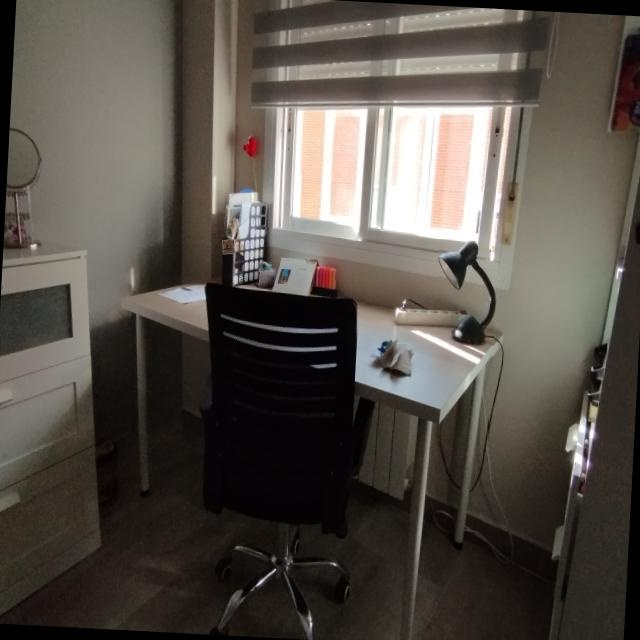bookshelf: (549, 141, 640, 640)
cabinet: (0, 246, 100, 607)
chair: (200, 284, 357, 639)
lamp: (439, 241, 496, 345)
stove: (358, 306, 492, 548), (122, 284, 209, 497), (401, 423, 440, 640)
